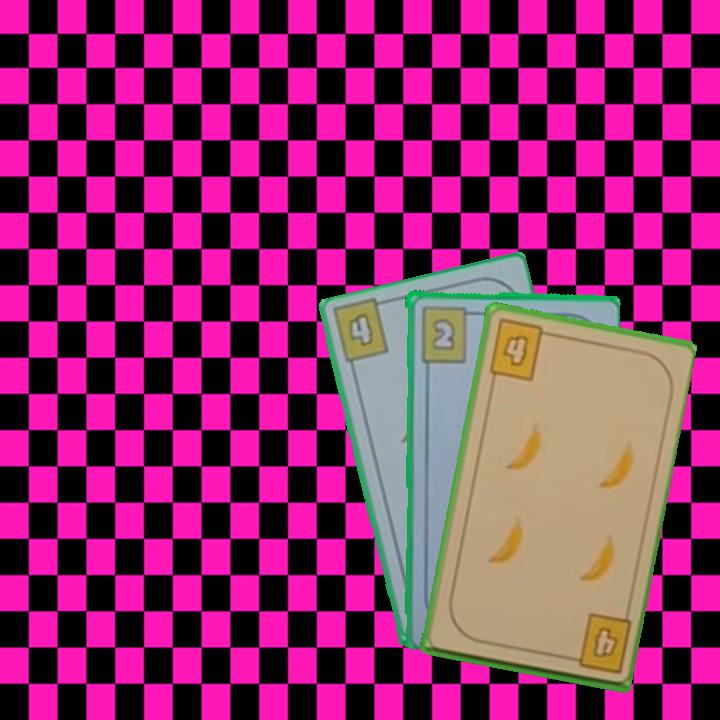2b: (417, 303, 479, 364)
4b: (560, 610, 634, 677), (485, 315, 556, 384), (343, 308, 376, 349)
